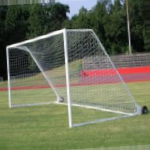goals: (6, 27, 138, 126)
